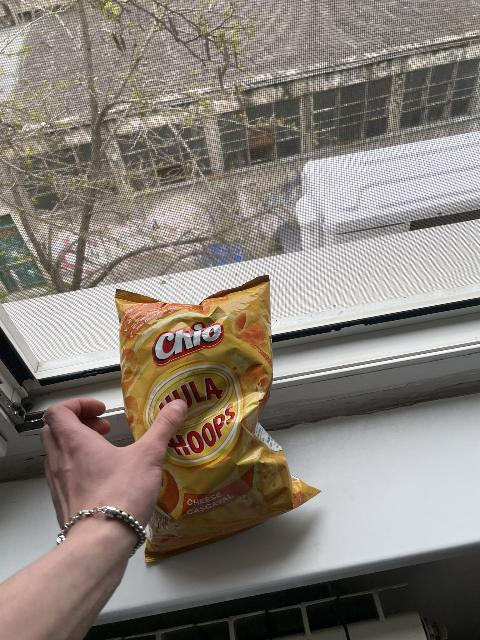Chio Hula Hoops Cheese 70g: (117, 272, 322, 559)
